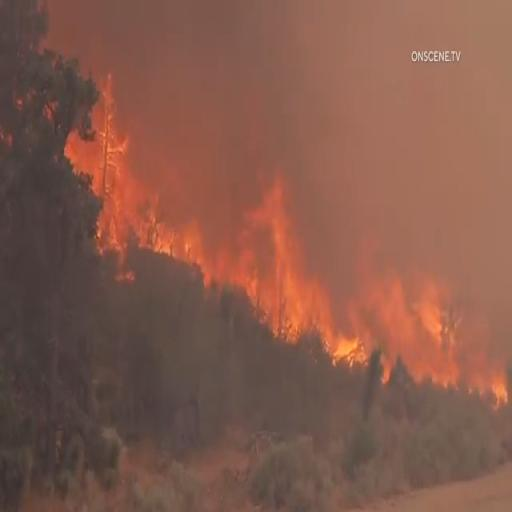fire: (85, 69, 126, 224), (252, 242, 304, 352), (336, 313, 369, 386)
